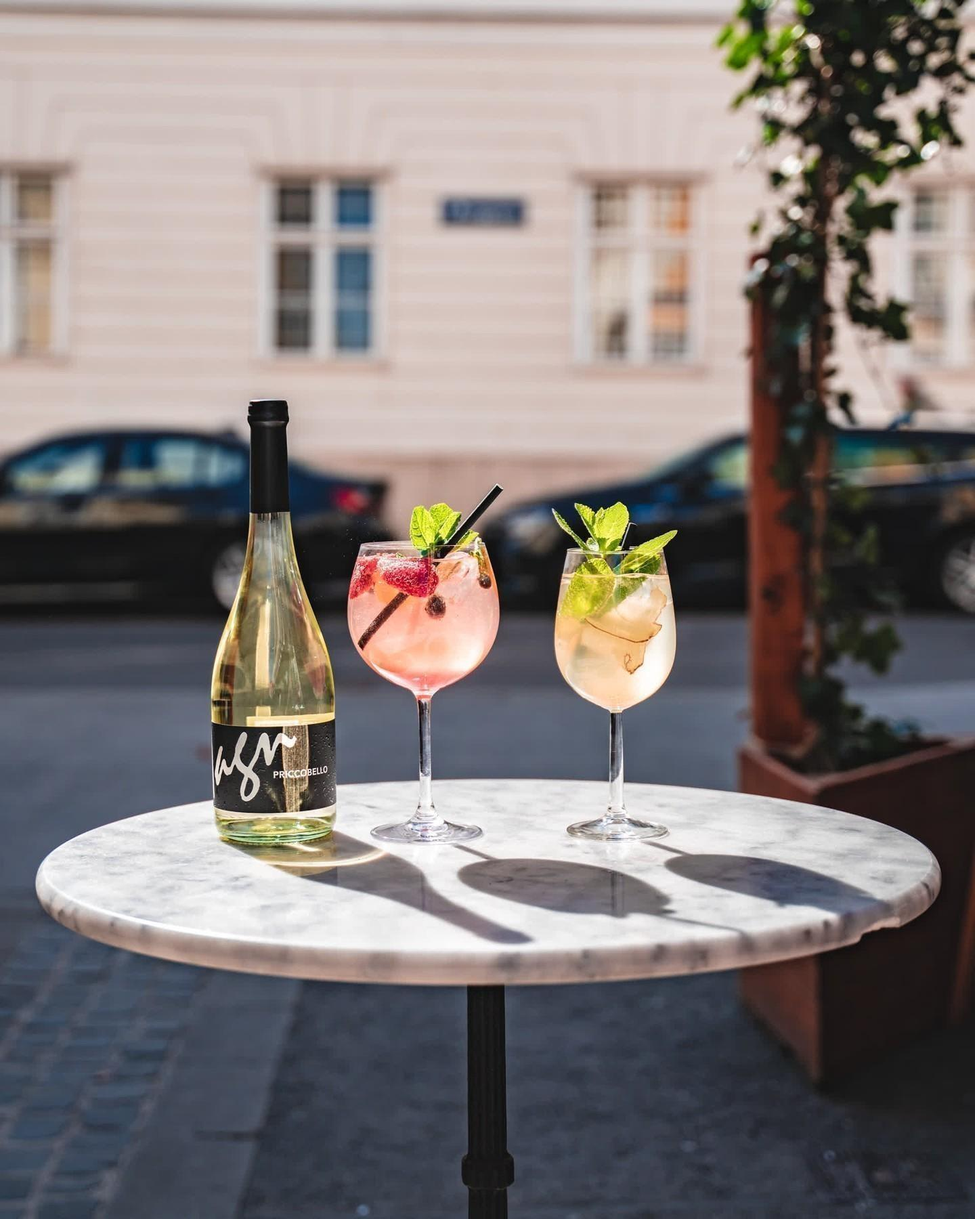bottle-glass: (203, 395, 349, 849)
glass-wine: (347, 532, 502, 847), (553, 544, 686, 845)
